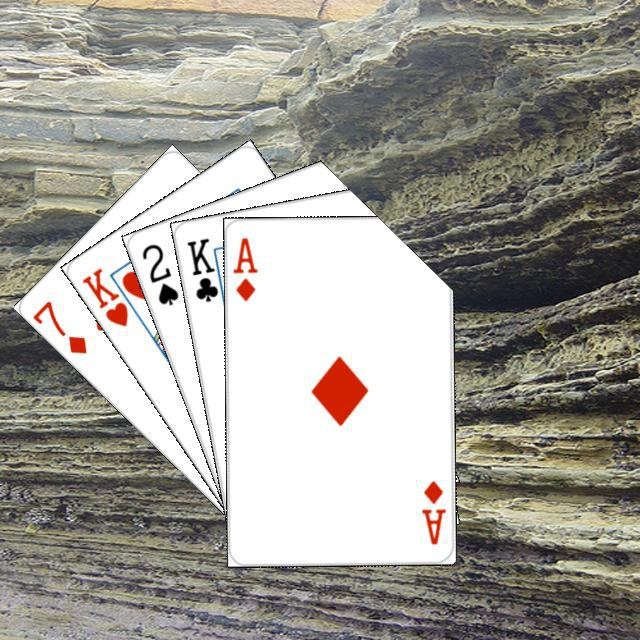2s: (137, 238, 181, 307)
7d: (28, 295, 89, 356)
Ad: (228, 232, 259, 303), (417, 476, 448, 546)
Kc: (181, 232, 228, 308)
Kh: (77, 262, 145, 328)
